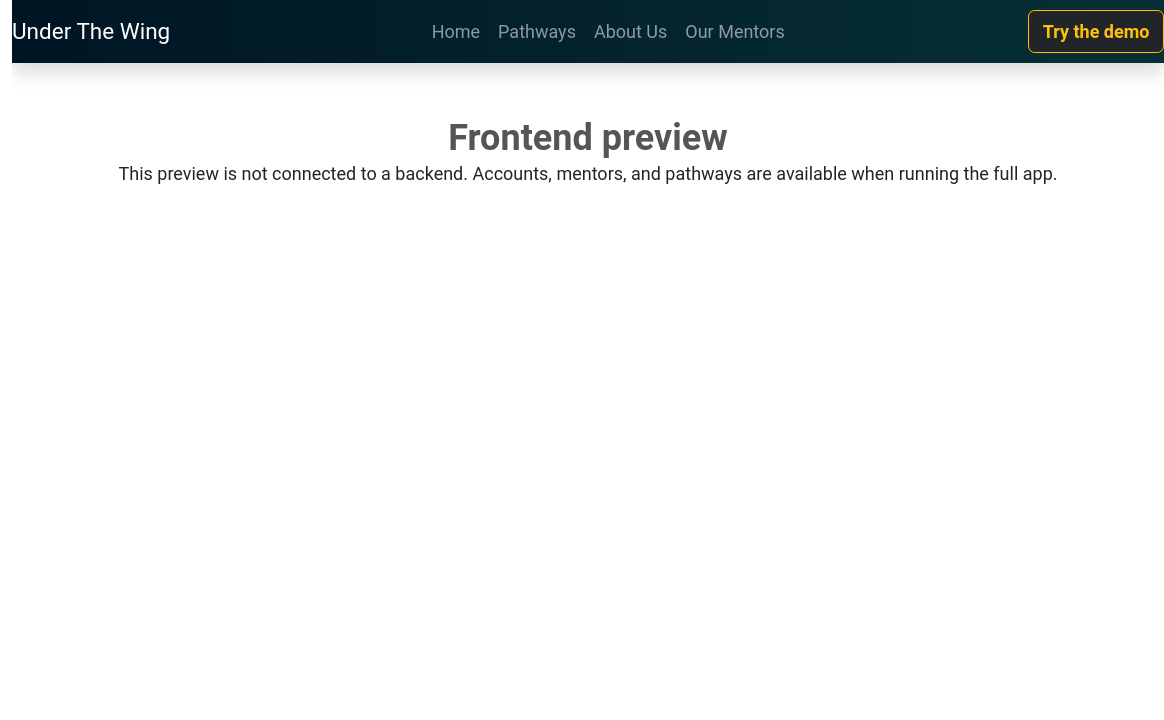
Test: opens a hash deep link and explains backend-only features in preview mode
Expected: the message shows "not connected", [118,163,1058,184]
Click the link "About Us" at (631, 32), box [594,21,667,42]
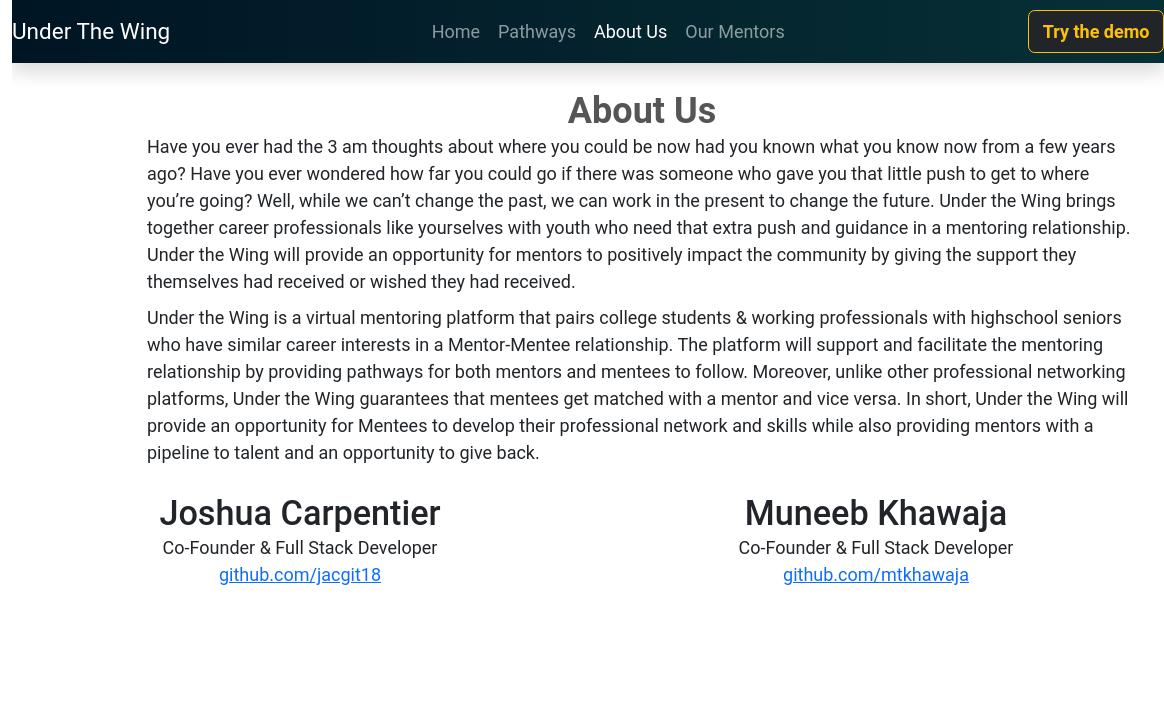
Expected: the heading "About Us" is shown, [568,90,716,132]
